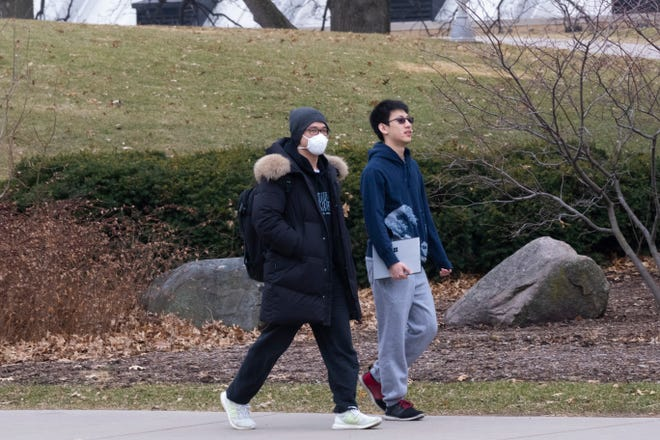with_mask: (301, 114, 329, 154)
without_mask: (380, 105, 415, 145)
